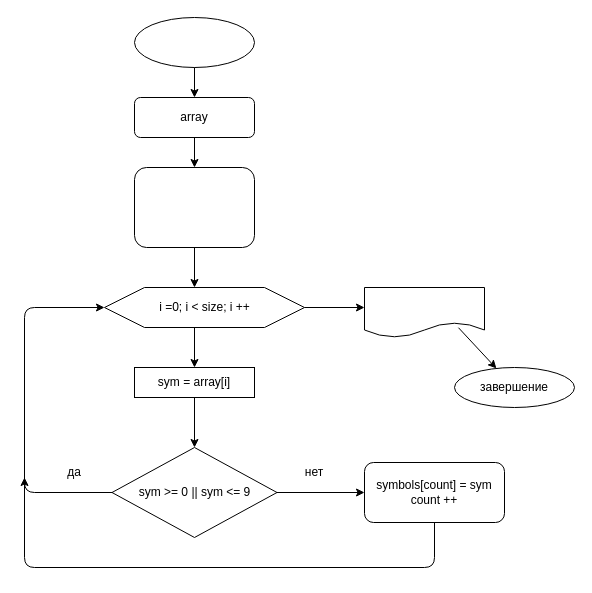
Image size: 592x593. Some labels were removed from this diagram. Here are the shapes that lost their labels. From the top down, the box of each, then its label:
(134, 16, 254, 68): Старт
(134, 166, 254, 248): sym = 0 size = array.Length count = 0 symbols = size
(364, 286, 484, 338): symbols
